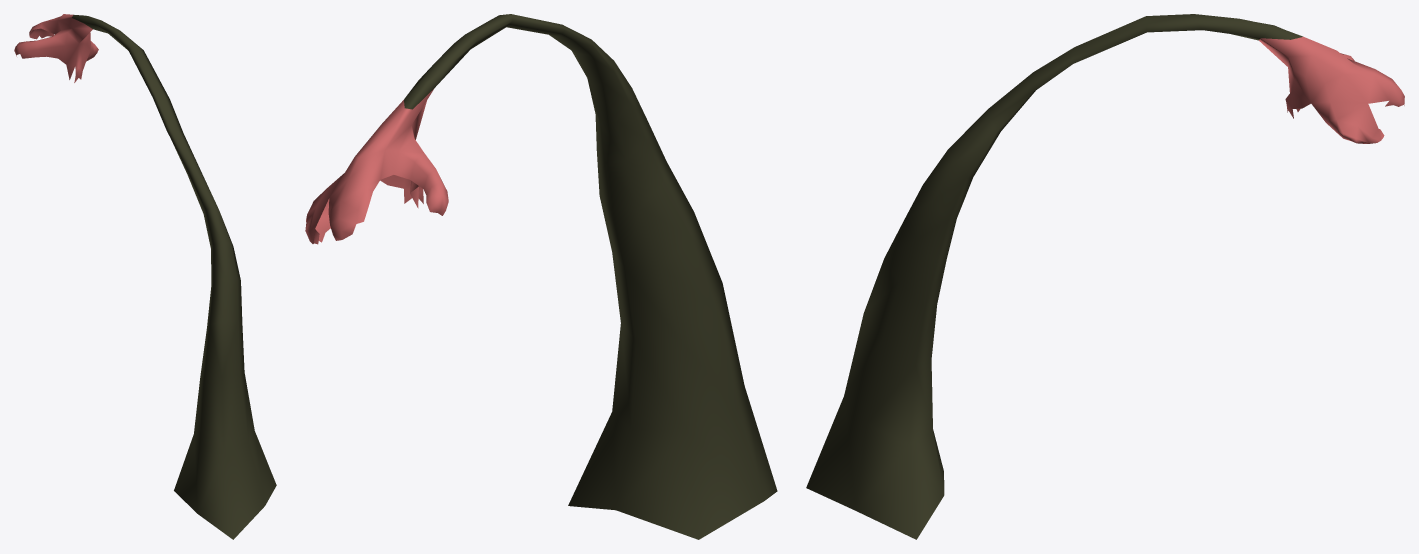
The model's file is antena_pez.obj.
3 views of the same model, side by side, from view 1: azimuth 30°, elevation 25°; view 2: azimuth 150°, elevation 25°; view 3: azimuth 270°, elevation 25° (orthographic). The views are drawn at different scales.
Parts seen in each view (by area): view 1: pasted__polySurface3.001_pasted__lambert12, pasted__polySurface3.001_pasted__lambert10; view 2: pasted__polySurface3.001_pasted__lambert12, pasted__polySurface3.001_pasted__lambert10; view 3: pasted__polySurface3.001_pasted__lambert12, pasted__polySurface3.001_pasted__lambert10.
Part boxes in pixels (x1,y1,x2,y2): pasted__polySurface3.001_pasted__lambert12: (72,15,276,539); pasted__polySurface3.001_pasted__lambert10: (14,14,98,82); pasted__polySurface3.001_pasted__lambert12: (404,14,777,539); pasted__polySurface3.001_pasted__lambert10: (305,89,448,244); pasted__polySurface3.001_pasted__lambert12: (806,14,1302,539); pasted__polySurface3.001_pasted__lambert10: (1259,36,1404,143).
Bounding box in the file's own units: 0.1421 × 0.5263 × 0.5769.
